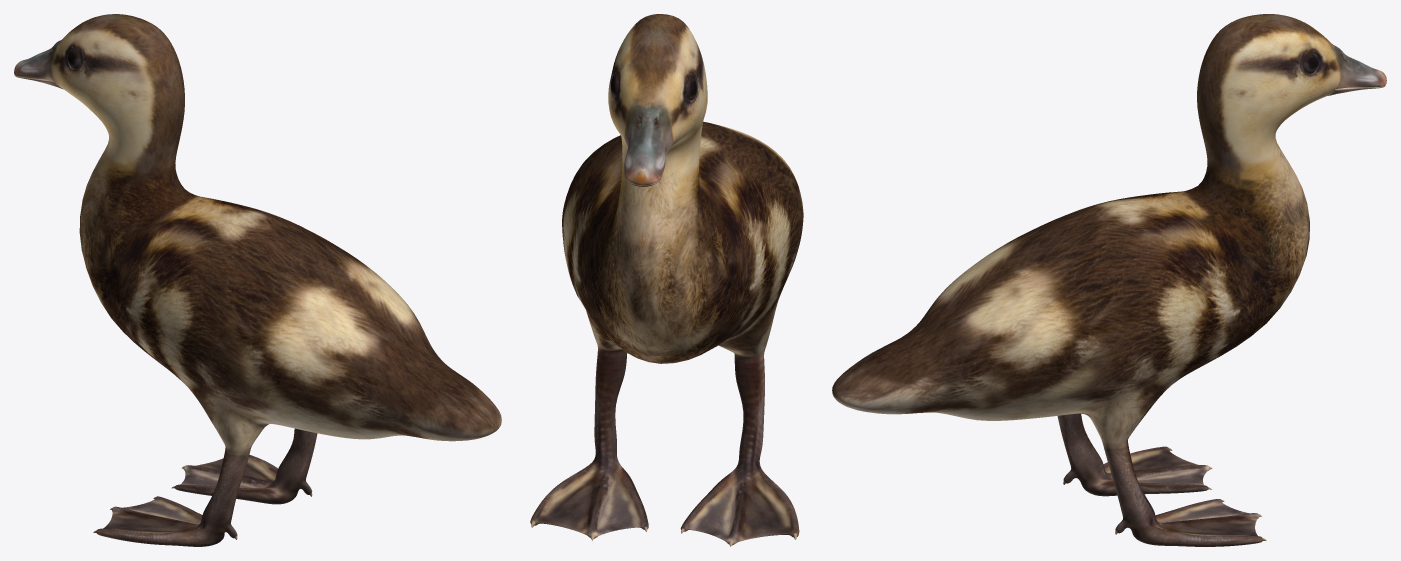
The model's file is Ratusca1.obj.
3 renders of one model, left to right at view 1: azimuth 30°, elevation 25°; view 2: azimuth 150°, elevation 25°; view 3: azimuth 270°, elevation 25°, orthographic. The views are drawn at different scales.
Parts seen in each view (by area): view 1: 12250_Bird_v1_L3; view 2: 12250_Bird_v1_L3; view 3: 12250_Bird_v1_L3.
Boxes of the visible parts, bbox=[...] form: 12250_Bird_v1_L3: bbox=[14, 14, 501, 546]; 12250_Bird_v1_L3: bbox=[530, 14, 803, 546]; 12250_Bird_v1_L3: bbox=[832, 14, 1386, 546].
Bounding box in the file's own units: 0.2551 × 0.4476 × 0.476.
1 material, 1 textured.
